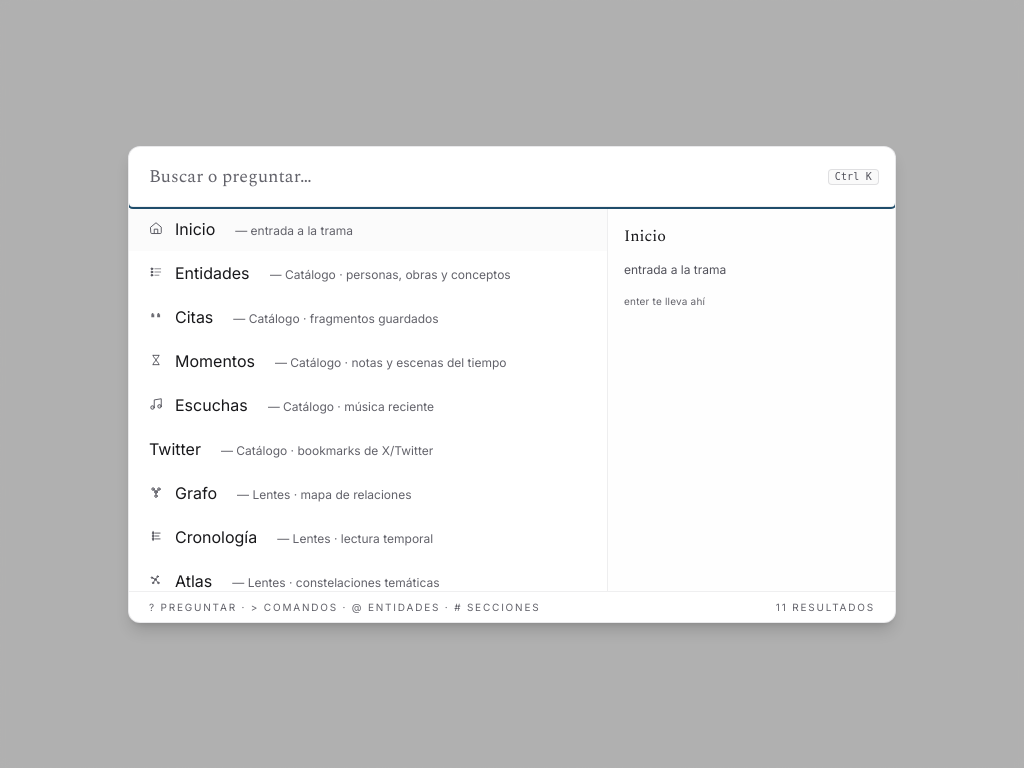
Test: <CommandPalette /> › usa búsqueda server-first sin descargar entidades/citas cuando counts supera el umbral local
Type "borges" into the field with placeholder "Buscar o preguntar…" at (512, 176), box [129, 146, 895, 206]
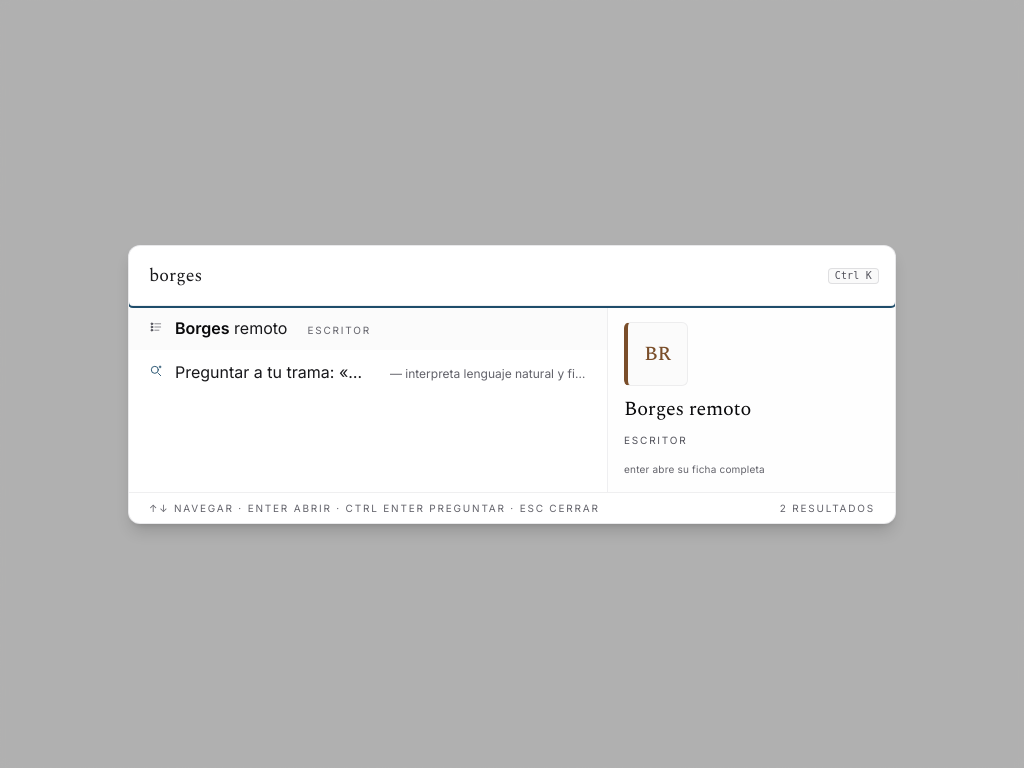
Expected: the list shows "Borges remoto", [129, 306, 607, 394]
